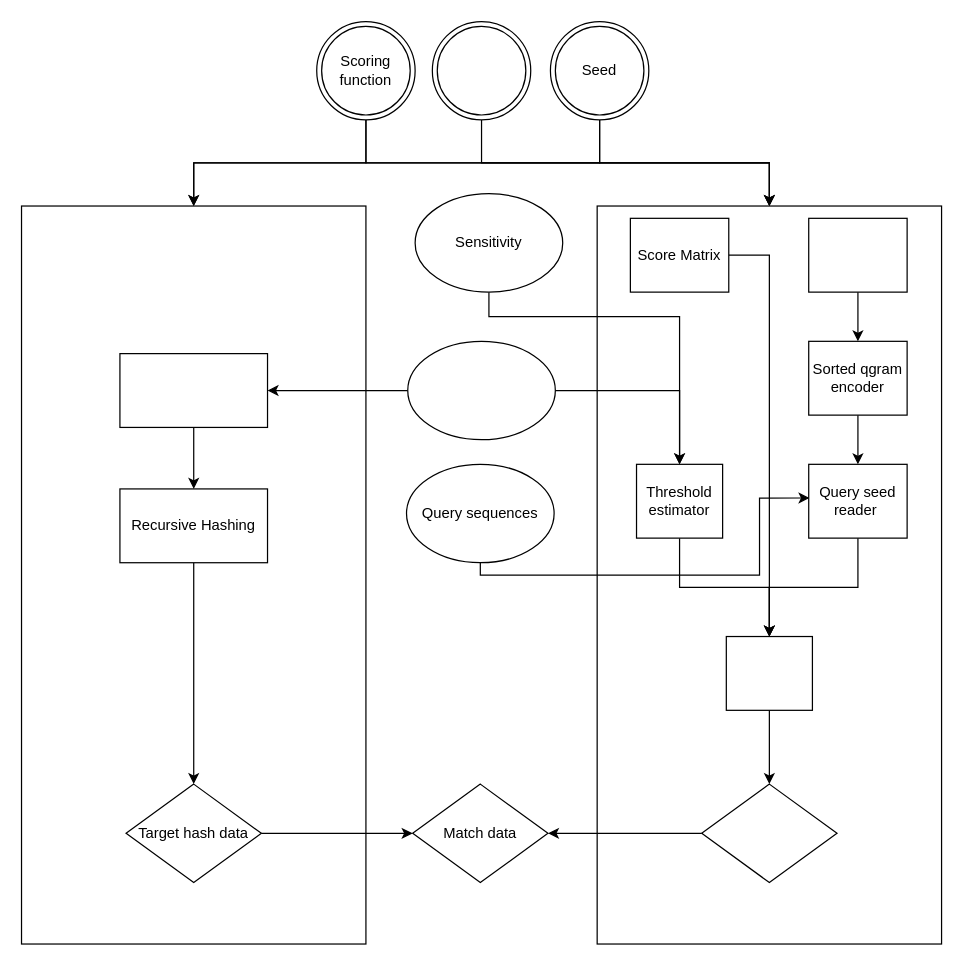
The diagram is 963 pixels wide and 966 high, and some of its shapes have lost their labels. The centre of each missing label's shape, as x and y in pixels:
Environment constructor: the point at 768,672
Hashing function: the point at 481,70
Query data: the point at 768,833
Sorted qgram index table: the point at 857,254
Target seed reader: the point at 193,389
Target sequences: the point at 481,390
